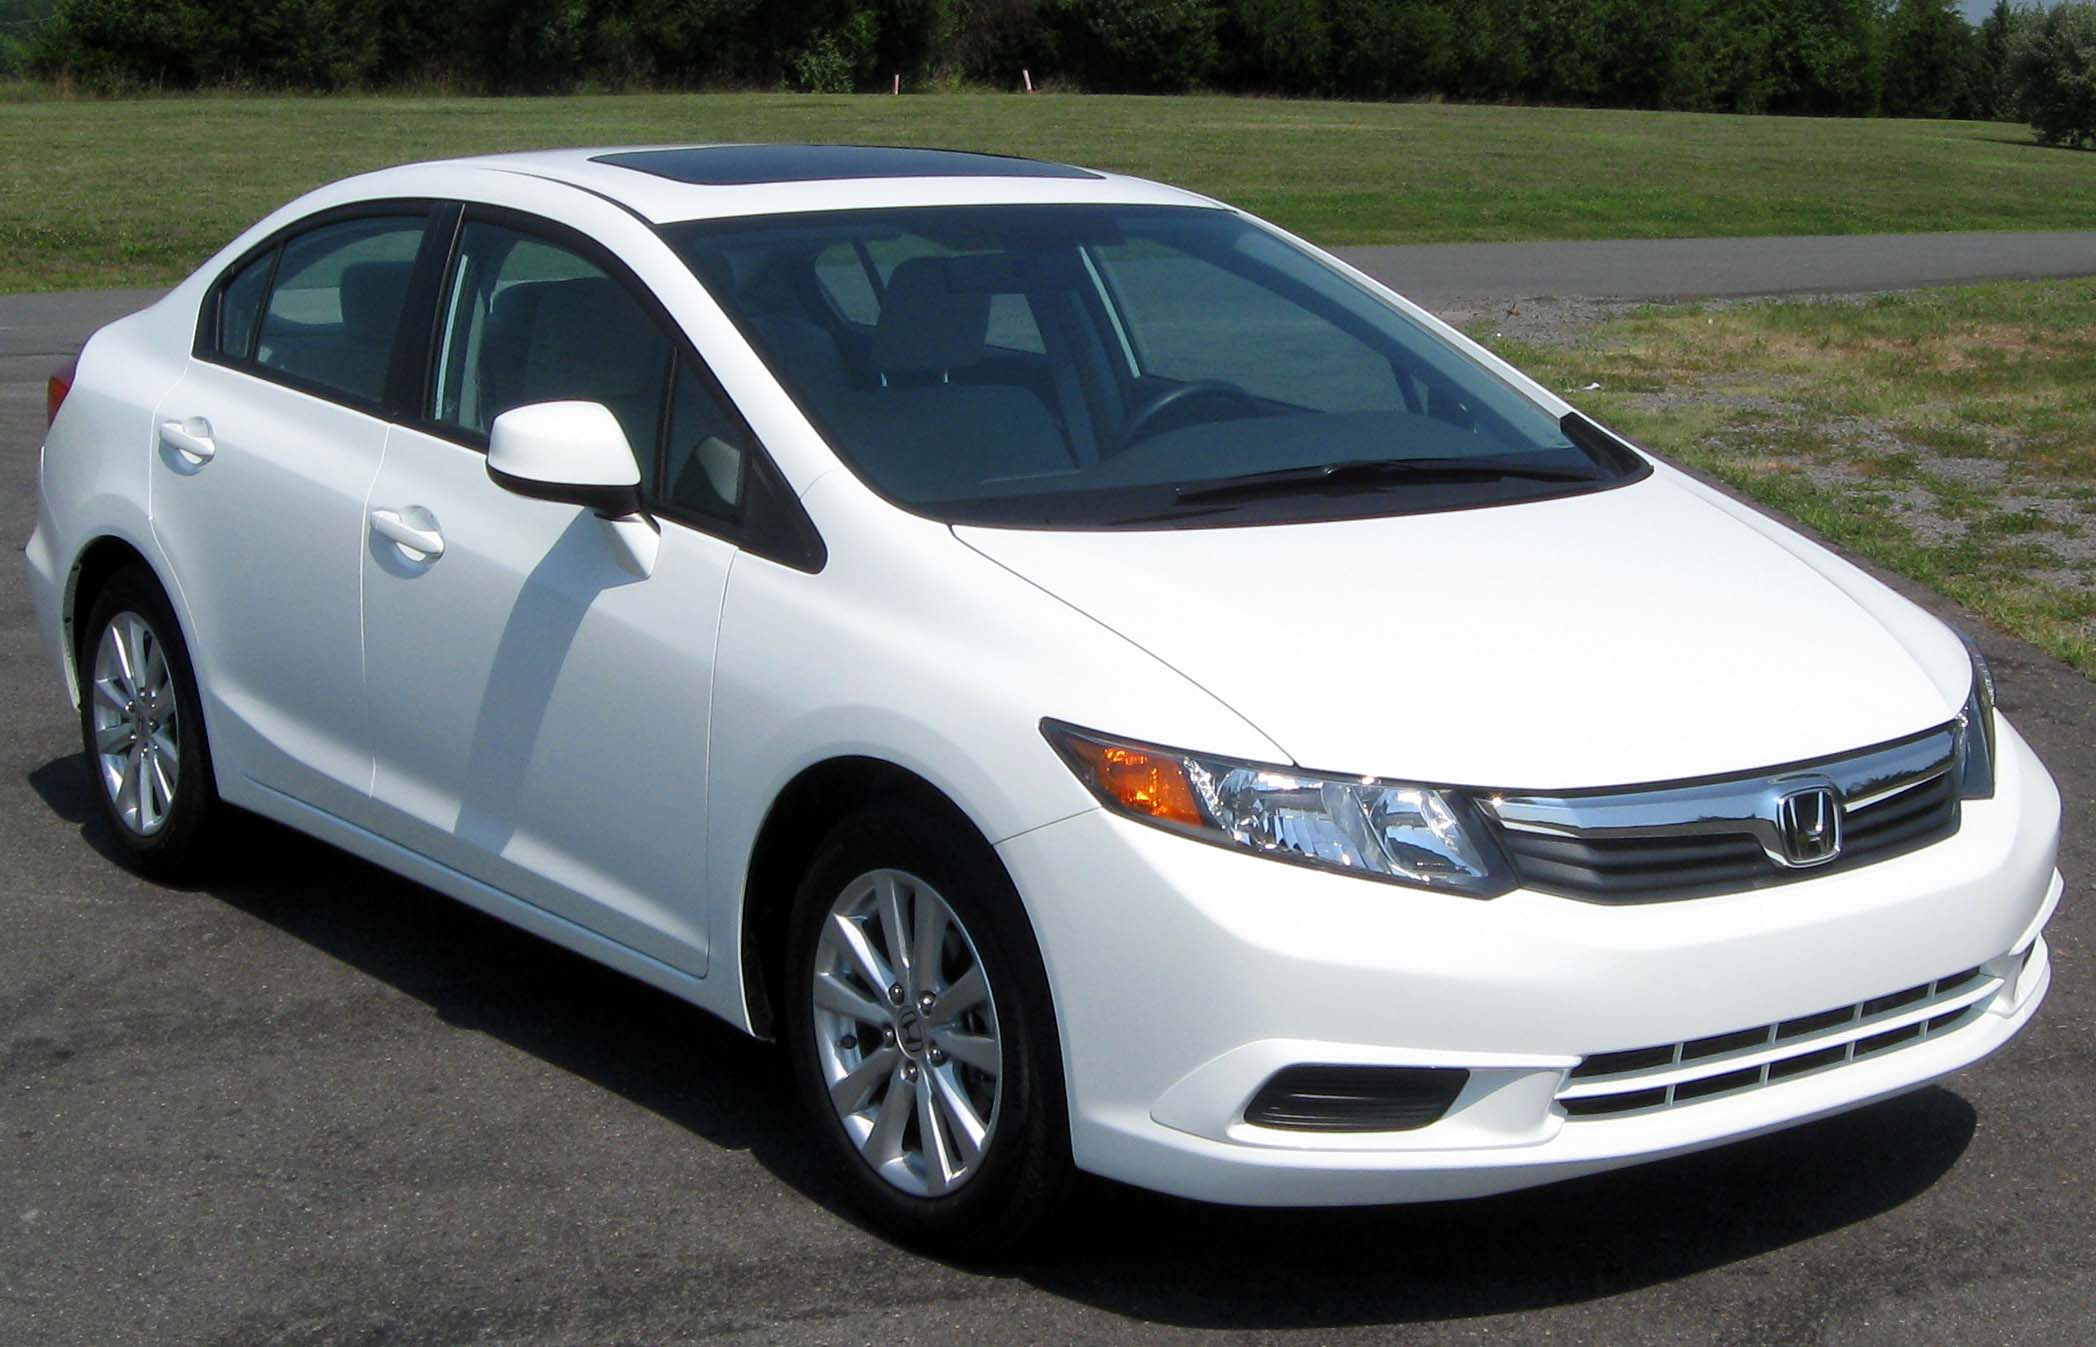car: (32, 104, 2081, 1290)
